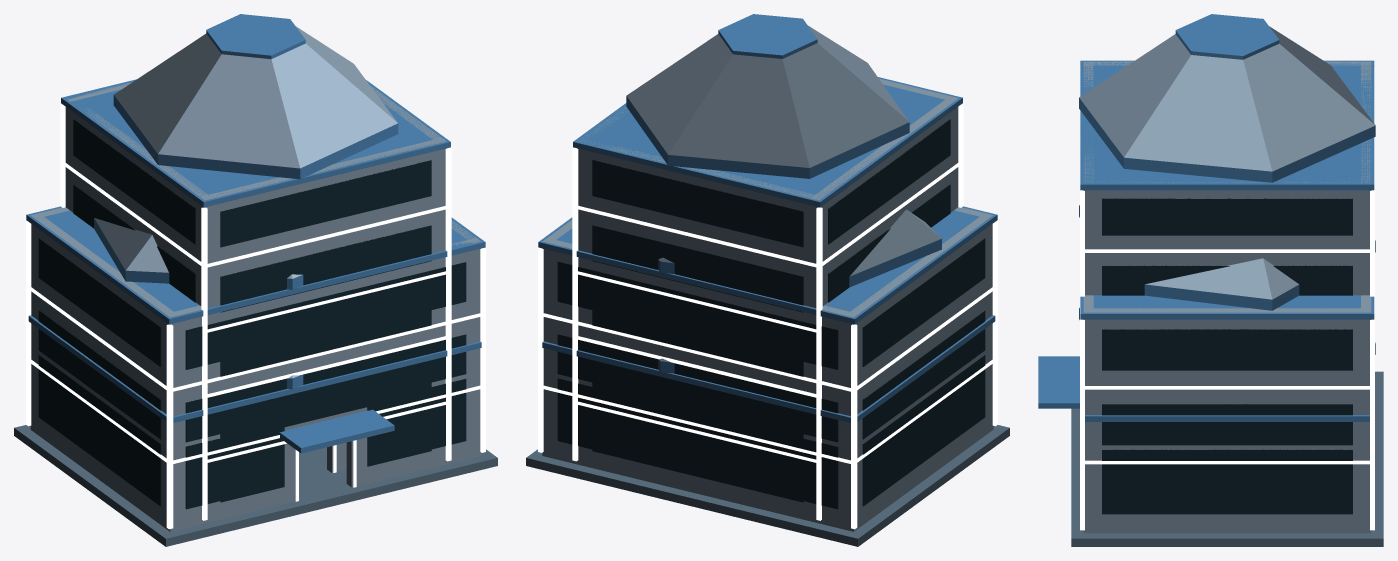
Rendered from shaddai_realm_town_arctic_v01.glb.
The picture shows the model from 3 angles, left to right: view 1: azimuth 30°, elevation 25°; view 2: azimuth 150°, elevation 25°; view 3: azimuth 270°, elevation 25°; orthographic projection. The views are drawn at different scales.
Visible parts, largest first — view 1: shaddai_bld_arctic_apartments, shaddai_bld_arctic_inn, shaddai_bld_arctic_workshop, shaddai_bld_arctic_home; view 2: shaddai_bld_arctic_apartments, shaddai_bld_arctic_inn, shaddai_bld_arctic_workshop; view 3: shaddai_bld_arctic_apartments, shaddai_bld_arctic_inn, shaddai_bld_arctic_workshop.
Part boxes in pixels (bbox=[...]): shaddai_bld_arctic_apartments: bbox=[60, 14, 463, 538]; shaddai_bld_arctic_inn: bbox=[14, 206, 497, 546]; shaddai_bld_arctic_workshop: bbox=[26, 315, 485, 531]; shaddai_bld_arctic_home: bbox=[283, 414, 354, 472]; shaddai_bld_arctic_apartments: bbox=[560, 14, 963, 538]; shaddai_bld_arctic_inn: bbox=[526, 206, 1009, 546]; shaddai_bld_arctic_workshop: bbox=[538, 315, 997, 531]; shaddai_bld_arctic_apartments: bbox=[1038, 14, 1383, 521]; shaddai_bld_arctic_inn: bbox=[1071, 205, 1383, 546]; shaddai_bld_arctic_workshop: bbox=[1079, 307, 1375, 533].
Size of the model in its own units: 19.2 by 23 by 16.8.
